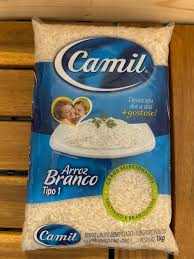arroz: (25, 18, 180, 253)
